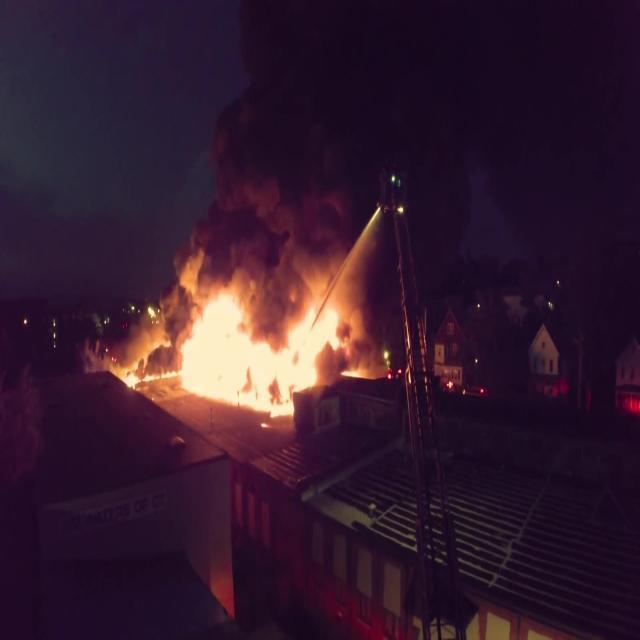Fire: (119, 286, 368, 414)
Smoke: (147, 0, 480, 371)
